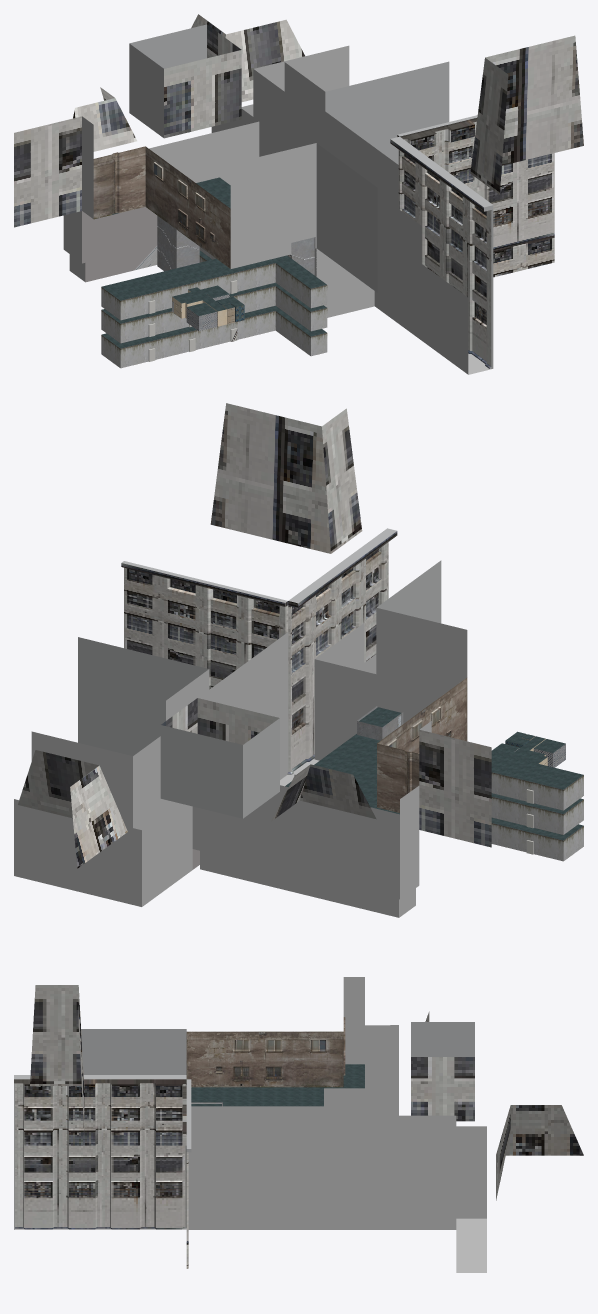
Rendered from LA_TARTA_PERFECTA.fbx.
3 renders of one model, top to bottom at view 1: azimuth 30°, elevation 25°; view 2: azimuth 150°, elevation 25°; view 3: azimuth 270°, elevation 25°, orthographic. The views are drawn at different scales.
Parts seen in each view (by area): view 1: EDIFICIOS.001 No COLAIDER, EDIFICIOS.001, EDIFICIOS.002, TECHOS, EDIFICIOS.003, EDIFICIOS.019, PARED FRONT B, EDIFICIOS.008, EDIFICIOS.018, EDIFICIOS.004, EDIFICIOS.014, EDIFICIOS.013 (+15 smaller); view 2: EDIFICIOS.001 No COLAIDER, EDIFICIOS.001, EDIFICIOS.010, EDIFICIOS.007, EDIFICIOS.002, EDIFICIOS.008, EDIFICIOS.009, EDIFICIOS.014, EDIFICIOS.020, TECHOS, BARDA.001, EDIFICIOS.011 (+10 smaller); view 3: EDIFICIOS.001, EDIFICIOS.001 No COLAIDER, EDIFICIOS.014, EDIFICIOS.013, EDIFICIOS.003, EDIFICIOS.012, PAR.016, EDIFICIOS.009, EDIFICIOS.006, PAR.015, EDIFICIOS.005.
Boxes of the visible parts, x1=… form: EDIFICIOS.001 No COLAIDER: x1=14, y1=14, x2=583, y2=361; EDIFICIOS.001: x1=390, y1=136, x2=493, y2=368; EDIFICIOS.002: x1=230, y1=143, x2=316, y2=268; TECHOS: x1=101, y1=250, x2=326, y2=348; EDIFICIOS.003: x1=145, y1=147, x2=230, y2=268; EDIFICIOS.019: x1=374, y1=194, x2=421, y2=340; PARED FRONT B: x1=82, y1=207, x2=157, y2=282; EDIFICIOS.008: x1=159, y1=121, x2=259, y2=184; EDIFICIOS.018: x1=421, y1=264, x2=468, y2=374; EDIFICIOS.004: x1=93, y1=146, x2=145, y2=219; EDIFICIOS.014: x1=325, y1=111, x2=398, y2=208; EDIFICIOS.013: x1=284, y1=62, x2=325, y2=150; EDIFICIOS.001 No COLAIDER: x1=18, y1=403, x2=533, y2=868; EDIFICIOS.001: x1=287, y1=528, x2=397, y2=774; EDIFICIOS.010: x1=14, y1=799, x2=141, y2=906; EDIFICIOS.007: x1=298, y1=800, x2=399, y2=899; EDIFICIOS.002: x1=376, y1=607, x2=467, y2=723; EDIFICIOS.008: x1=192, y1=785, x2=298, y2=874; EDIFICIOS.009: x1=142, y1=787, x2=192, y2=906; EDIFICIOS.014: x1=209, y1=632, x2=288, y2=779; EDIFICIOS.020: x1=314, y1=659, x2=376, y2=760; TECHOS: x1=359, y1=707, x2=583, y2=840; BARDA.001: x1=200, y1=851, x2=398, y2=917; EDIFICIOS.011: x1=31, y1=731, x2=132, y2=827; EDIFICIOS.001: x1=14, y1=1075, x2=186, y2=1229; EDIFICIOS.001 No COLAIDER: x1=30, y1=985, x2=583, y2=1268; EDIFICIOS.014: x1=188, y1=1106, x2=323, y2=1229; EDIFICIOS.013: x1=324, y1=1088, x2=398, y2=1229; EDIFICIOS.003: x1=186, y1=1031, x2=343, y2=1087; EDIFICIOS.012: x1=399, y1=1115, x2=456, y2=1229; PAR.016: x1=191, y1=1064, x2=364, y2=1106; EDIFICIOS.009: x1=456, y1=1126, x2=486, y2=1218; EDIFICIOS.006: x1=365, y1=1025, x2=398, y2=1088; PAR.015: x1=14, y1=1218, x2=486, y2=1272; EDIFICIOS.005: x1=343, y1=977, x2=364, y2=1064.
Bounding box in the file's own units: 9281 × 5733 × 11204.
